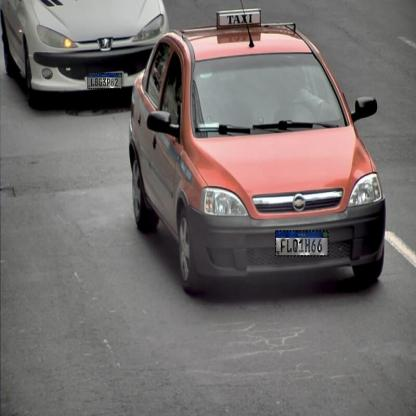PlacaM: (275, 230, 329, 257), (87, 73, 122, 89)
